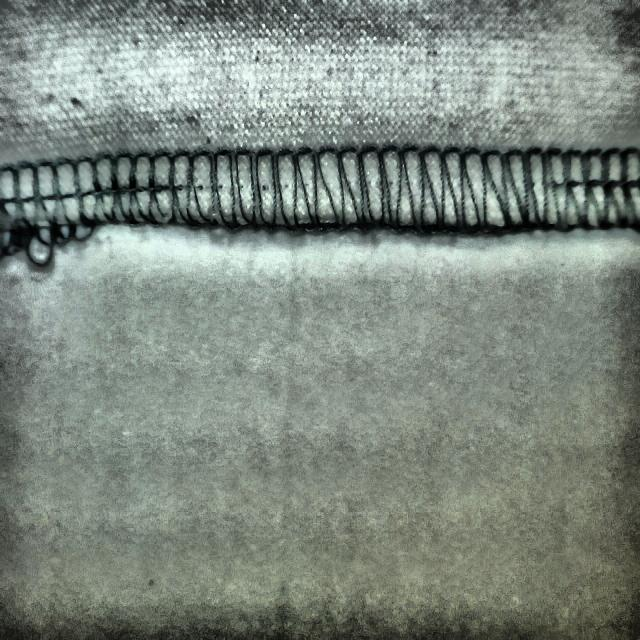gray stitch: (1, 149, 100, 270)
